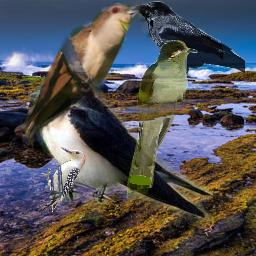Crow: (128, 1, 245, 78)
Cuckoo: (19, 3, 140, 145), (126, 40, 198, 202)
Swallow: (28, 69, 213, 224)
Woodpecker: (35, 146, 87, 216)
